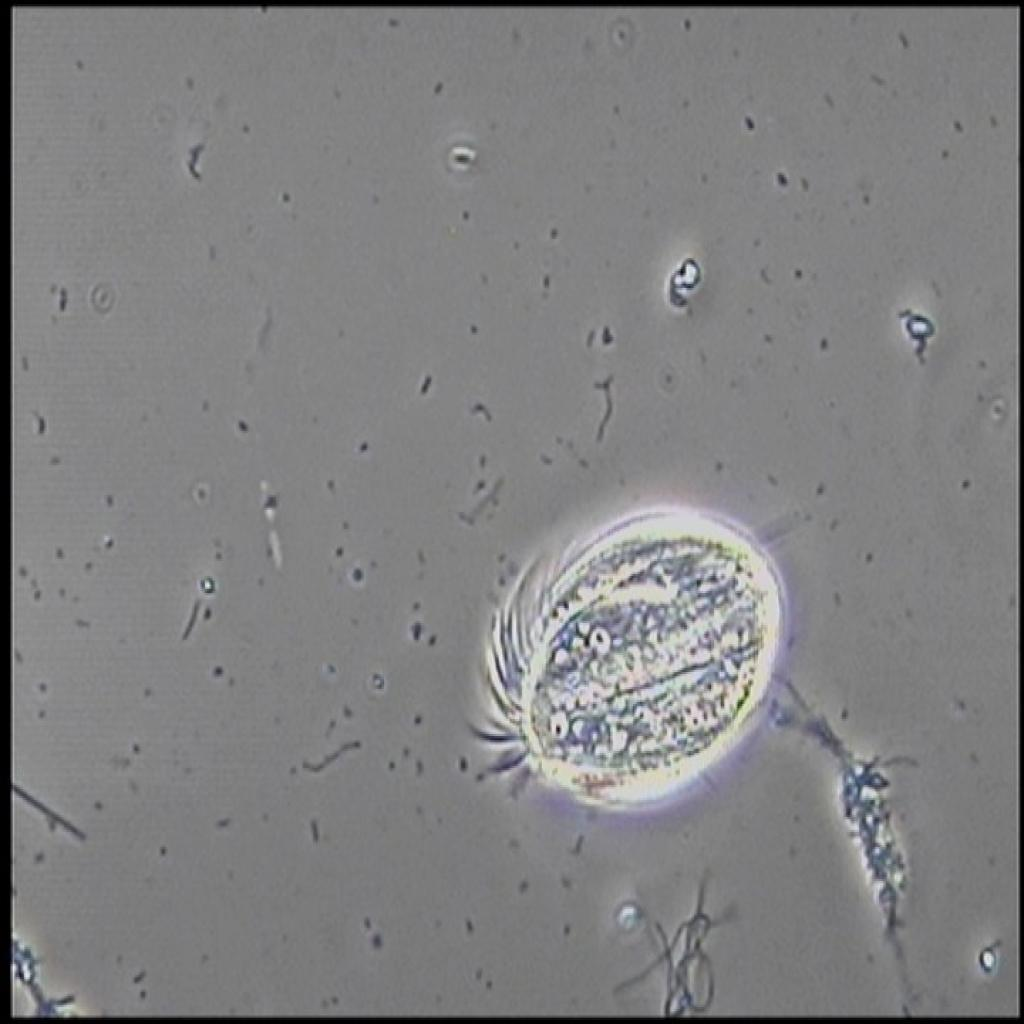Euplotes: (440, 502, 823, 827)
